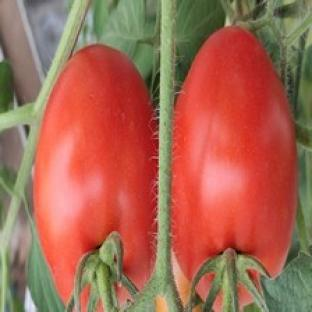Tomato: (34, 45, 157, 302), (173, 27, 298, 279)
